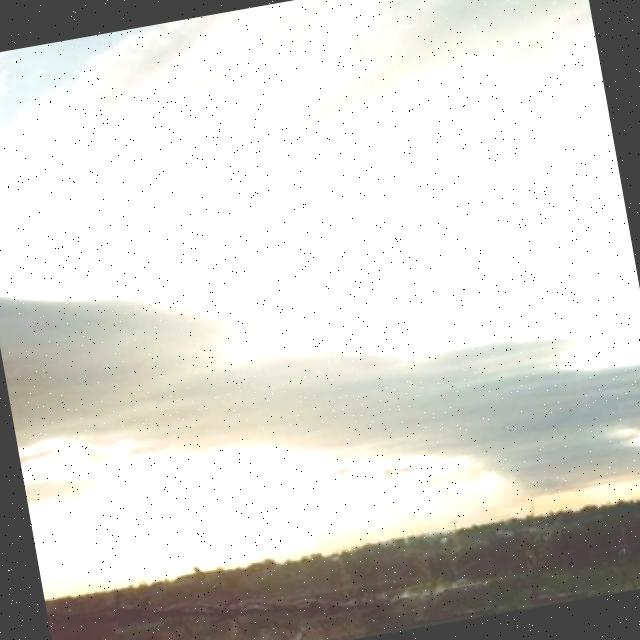Sc: (1, 55, 640, 564)
